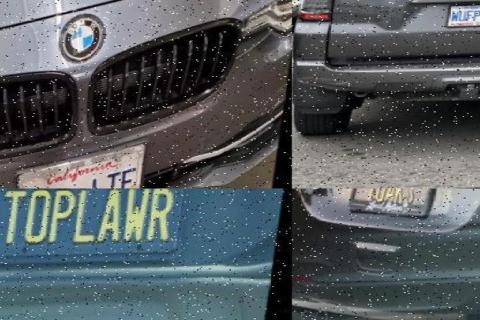LicensePlate: (0, 188, 201, 270), (22, 142, 150, 187), (356, 189, 440, 223), (448, 5, 478, 29)
